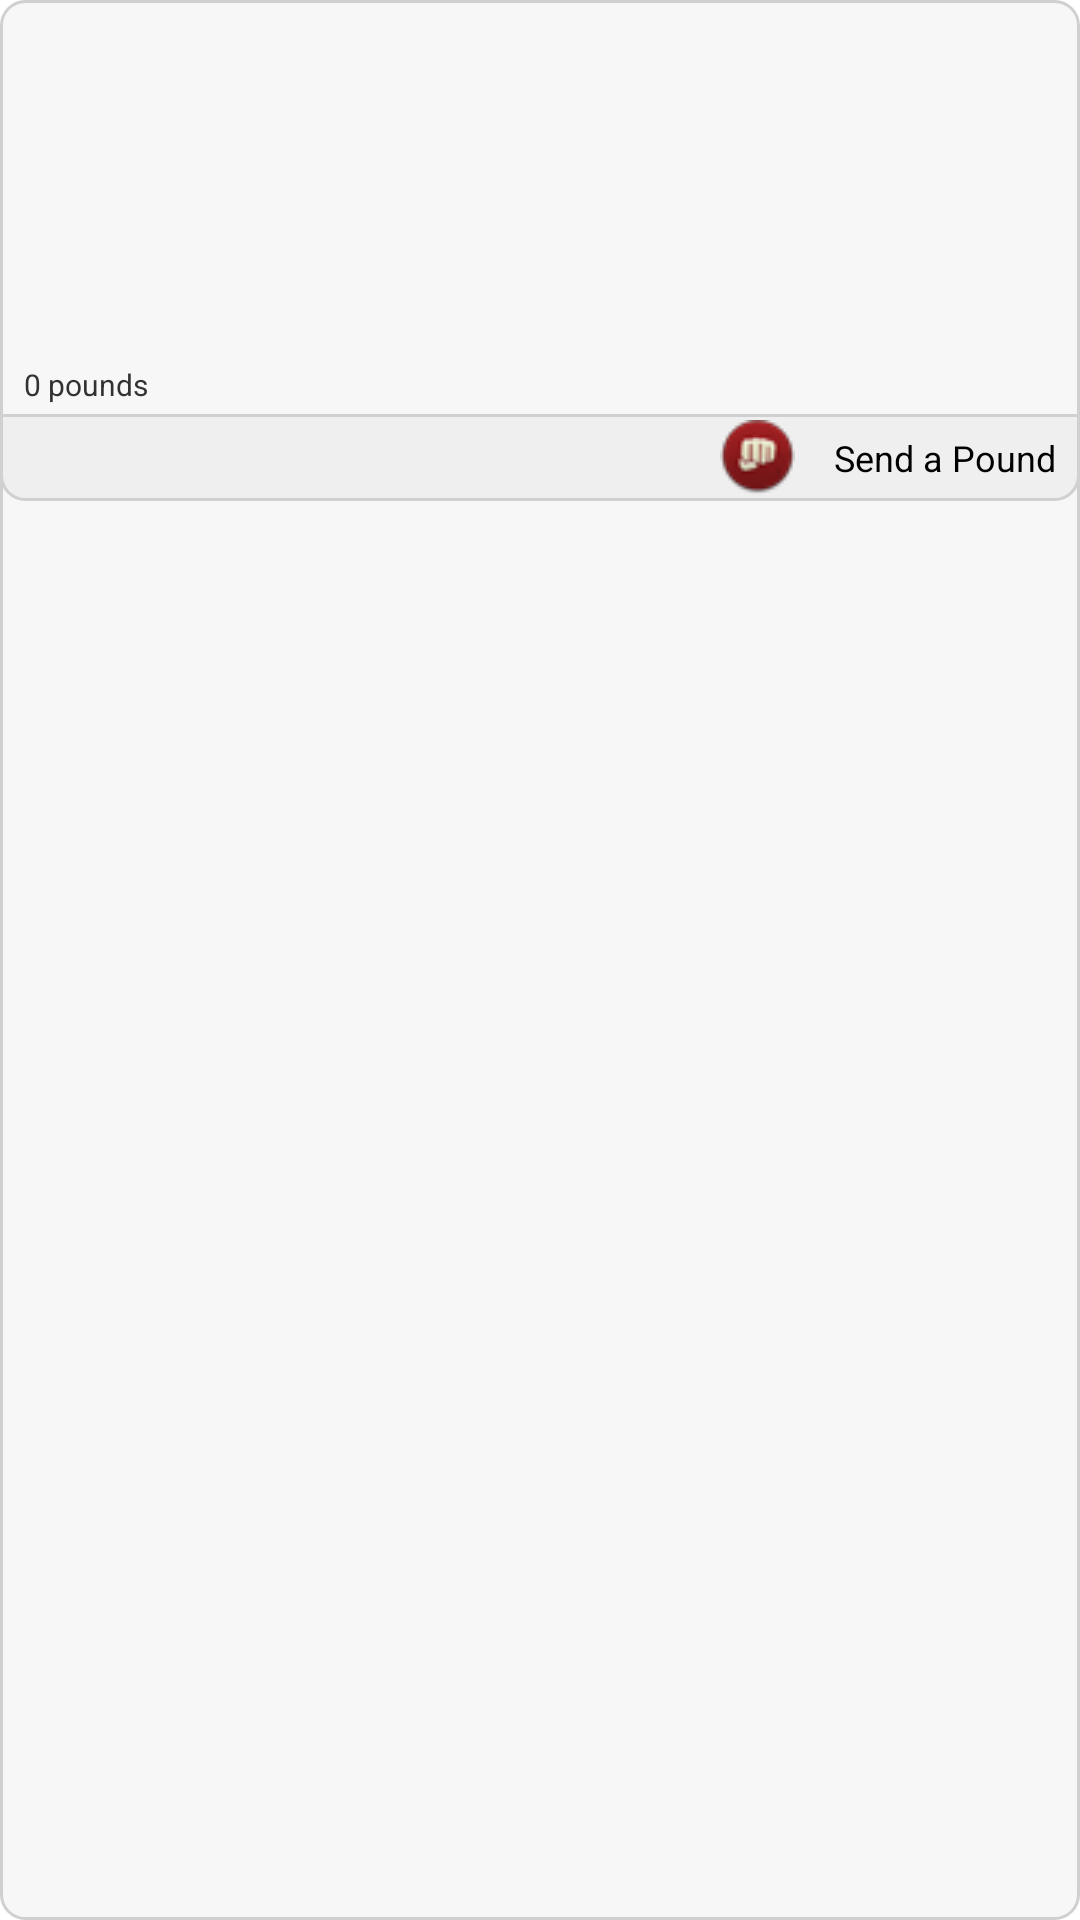

Where to tap for icons on this 1080px x 1920px app screen, as point (x, y):
pound sm: point (757, 456)
